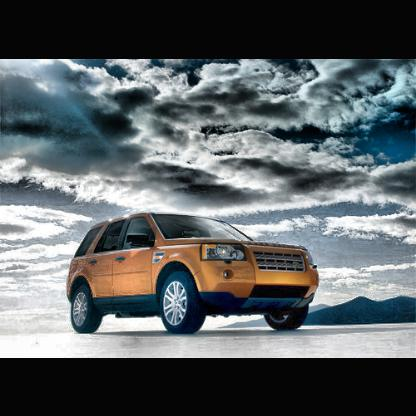Land Rover LR2 SUV 2012: (68, 213, 320, 336)
